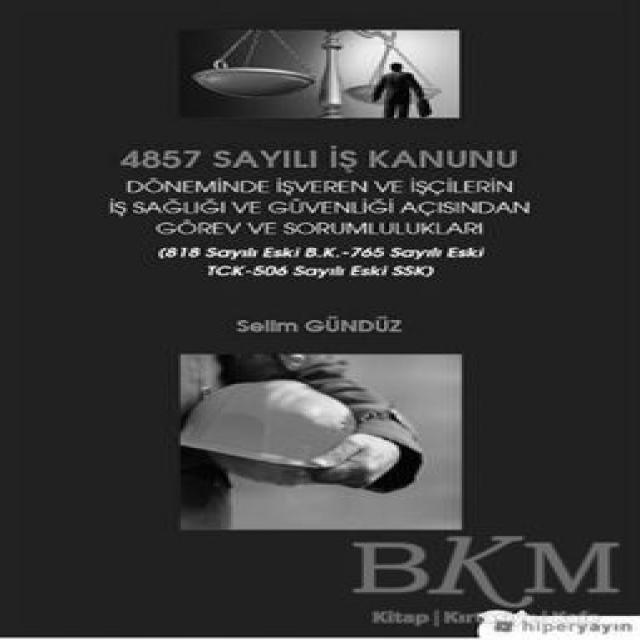safety_helmet: (178, 381, 397, 486)
